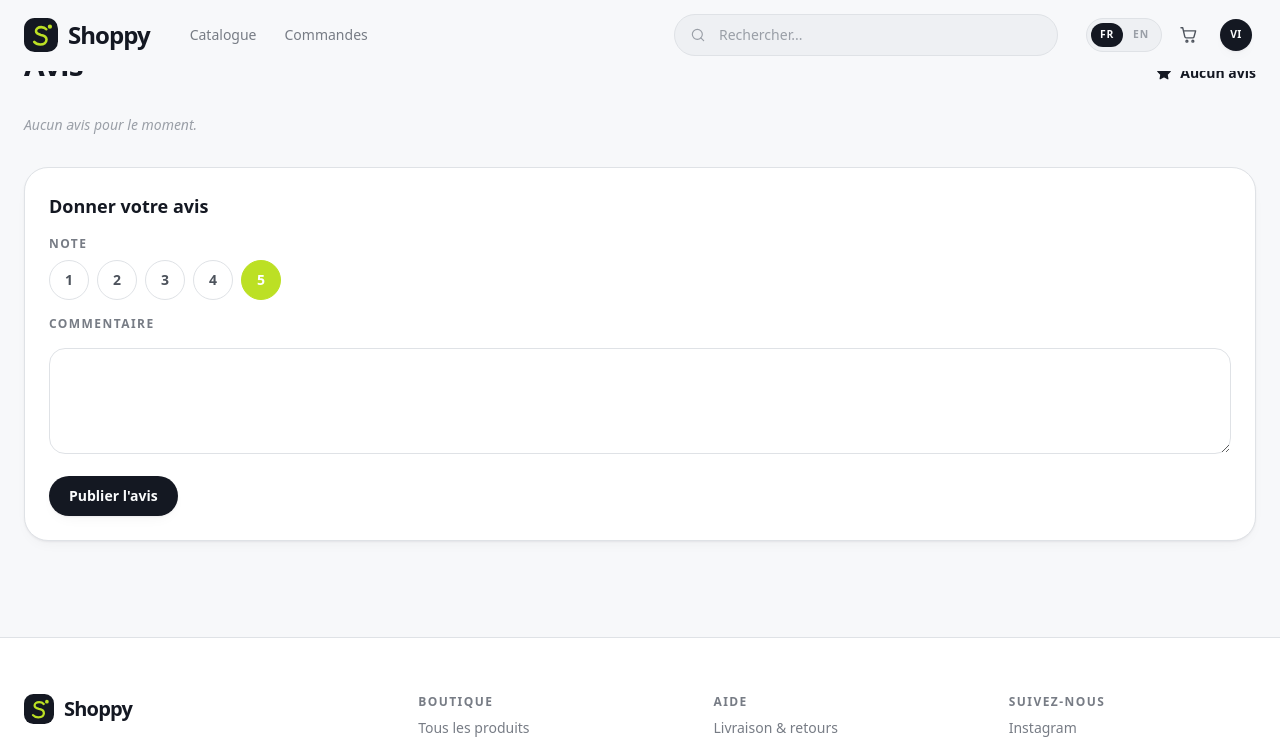
Test case: ProductDetailPage › publishes a customer review
The width and height of the screenshot is (1280, 737).
(page scrolled)
Expected: the button "Publier l'avis" is shown, [49,476,178,516]
Type "Très beau tee" into the text box labelled "Commentaire" at (640, 401), box [49,348,1231,454]
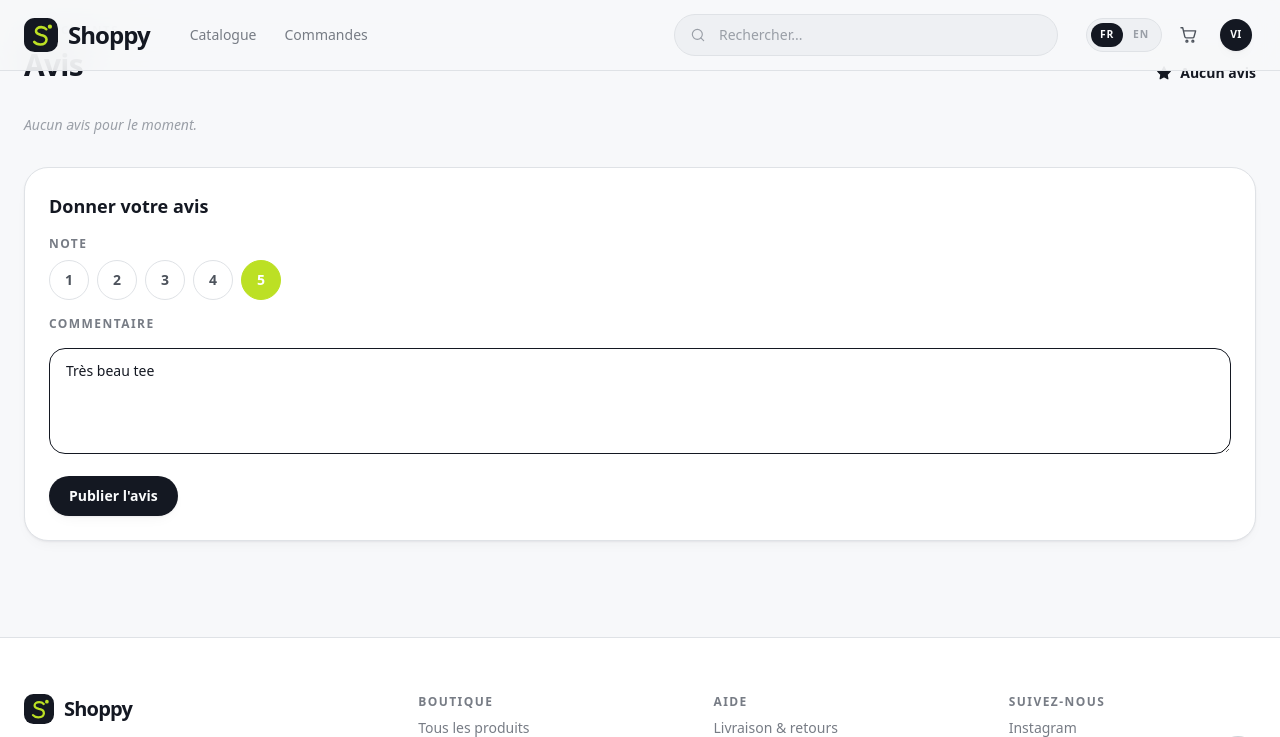
Click the button "Publier l'avis" at (113, 496), box [49,476,178,516]
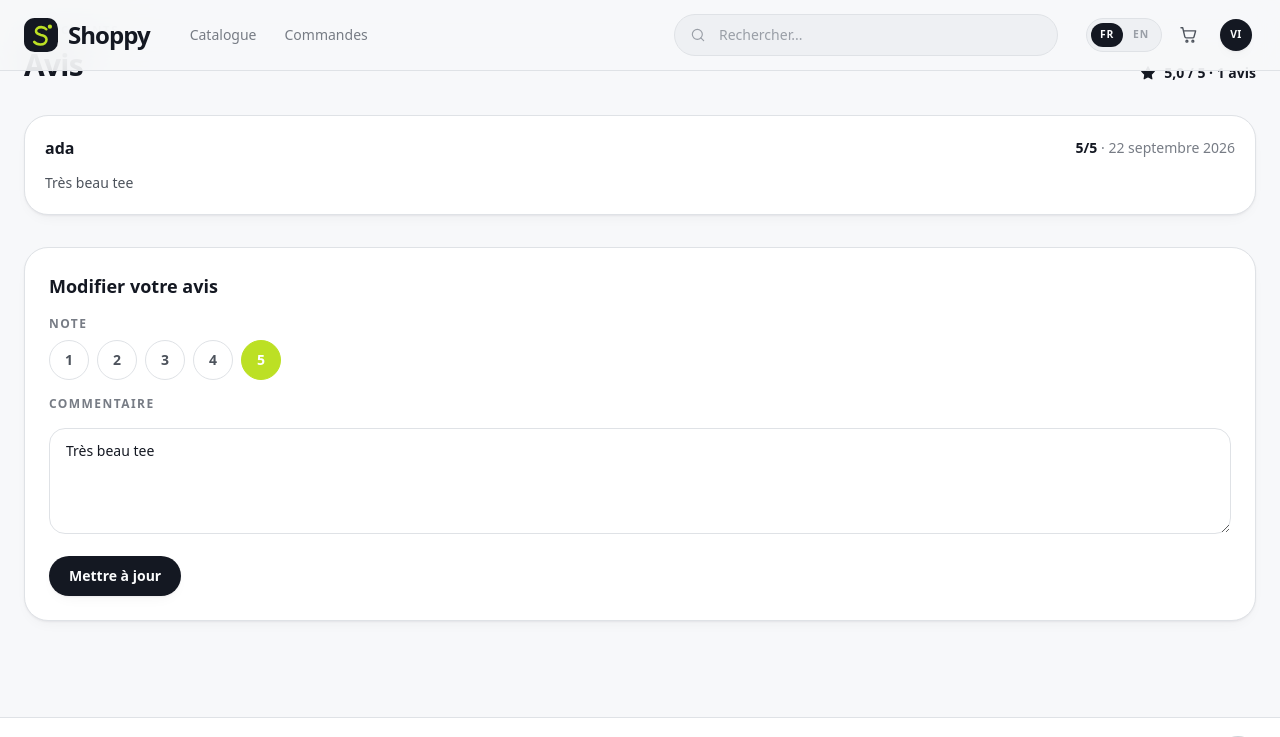
Expected: the text "Très beau tee" is shown, [45,173,133,192]
Expected: the text "ada" is shown, [45,136,74,160]
